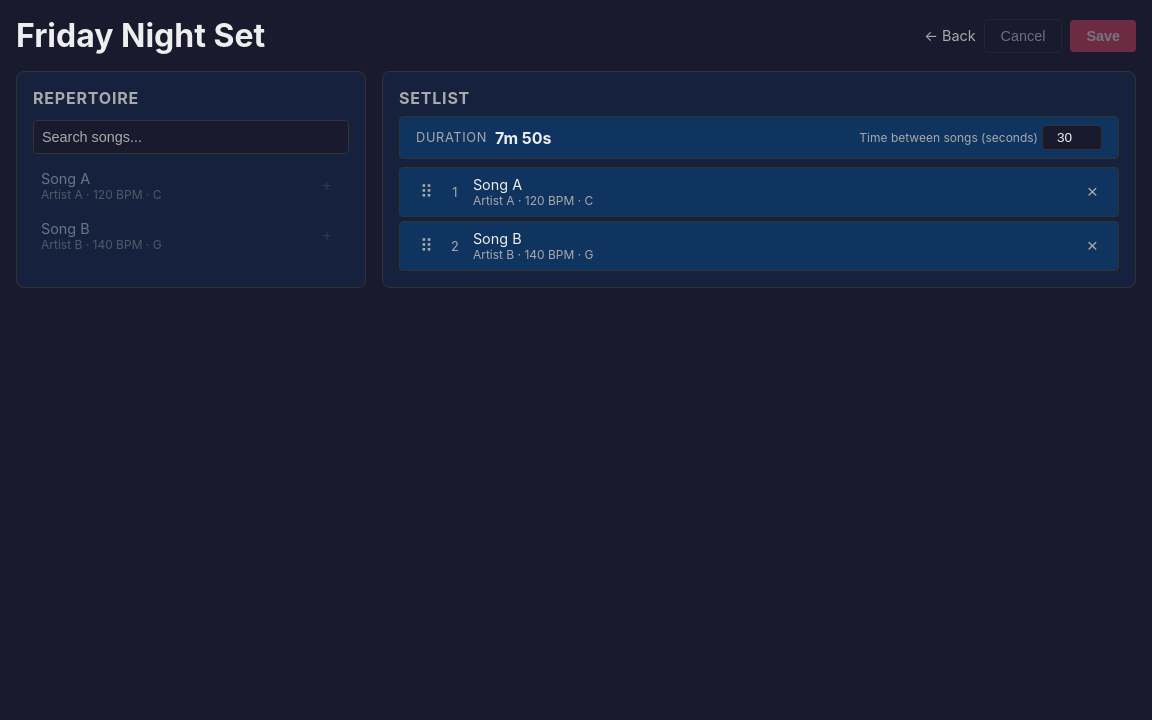
Scenario: Editor expand/collapse › collapses expanded card when clicked again
What coordinates should you click on to do the following:
click the text "Song A" below "7m 50s"
I would click on:
 (498, 184)
Its box is left=473, top=176, right=522, bottom=193.
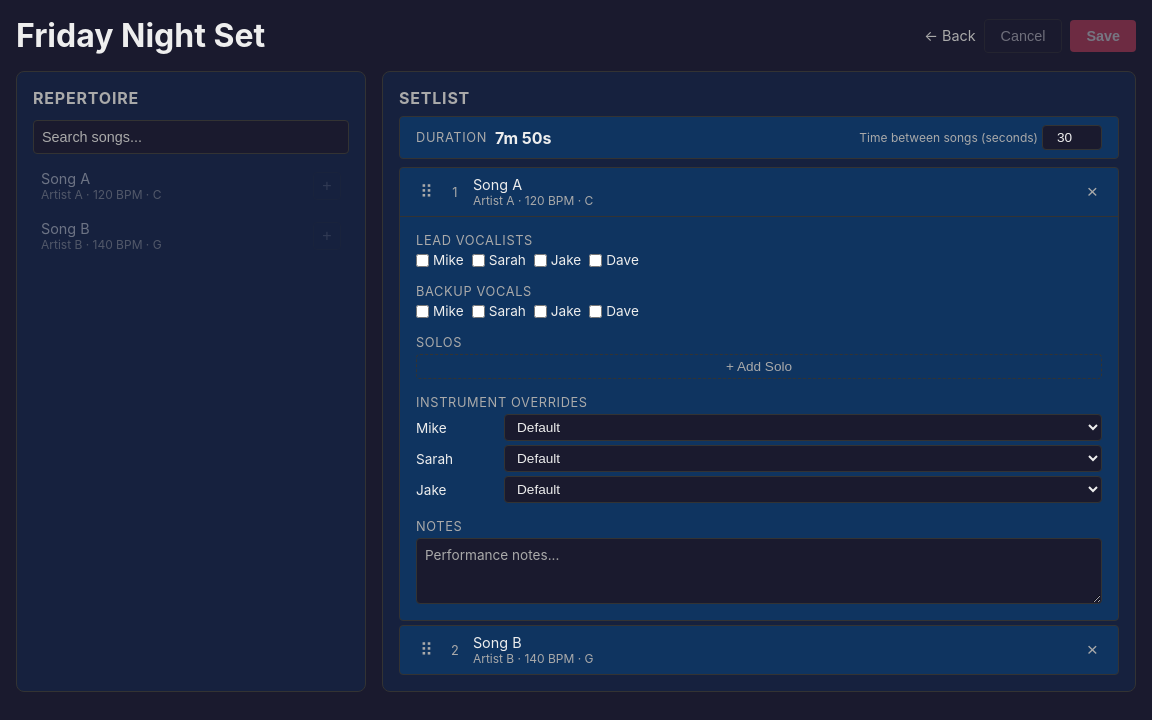
Now the text "Lead Vocalists" is shown, box left=416, top=233, right=533, bottom=248
What coordinates should you click on to do the following:
click the text "Song A" below "7m 50s"
I would click on:
 (498, 184)
Its box is left=473, top=176, right=522, bottom=193.
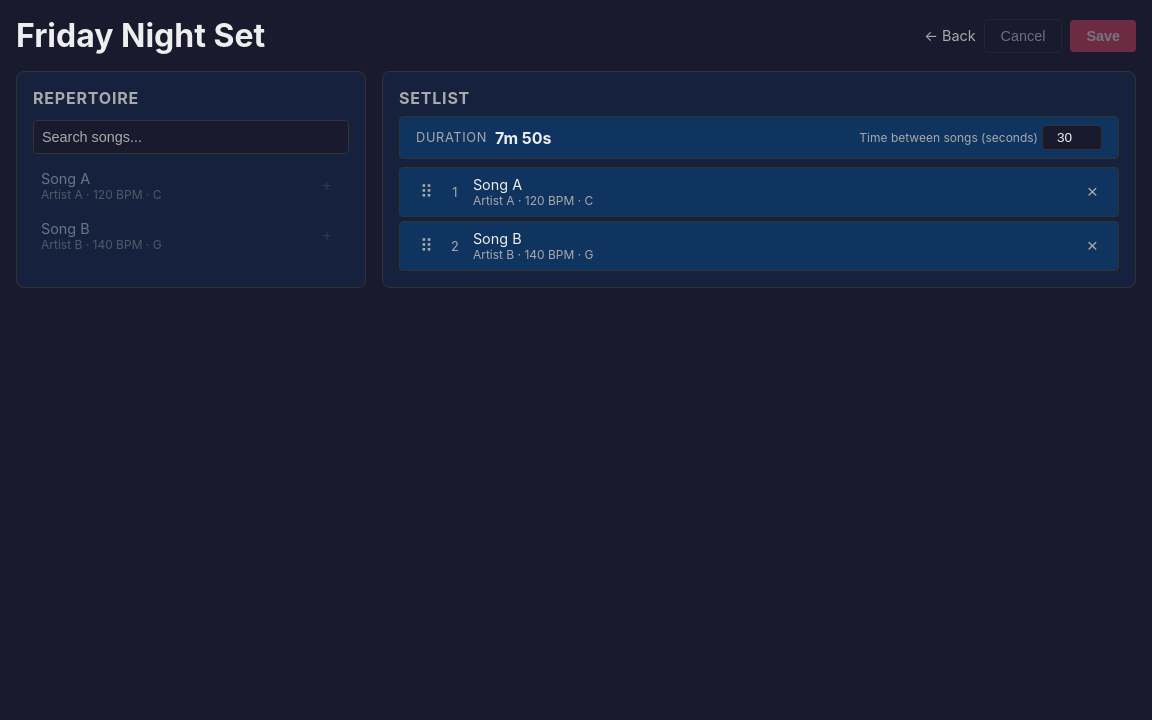
Now the text "Lead Vocalists" is gone
